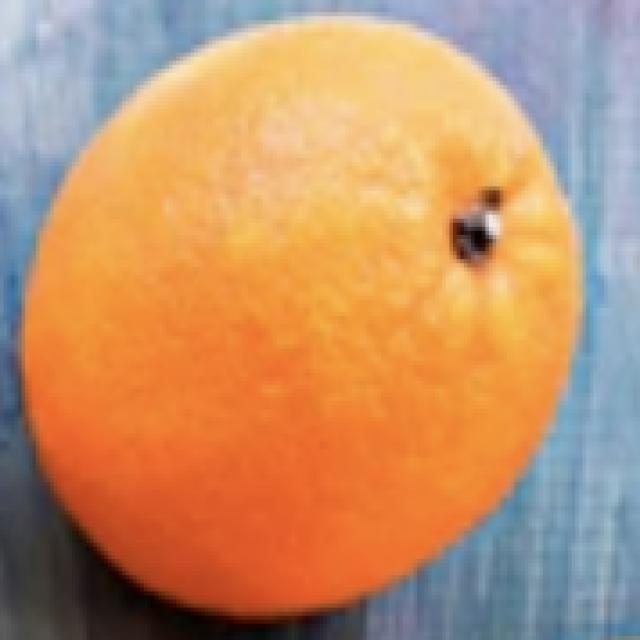Orange: (18, 14, 583, 621)
